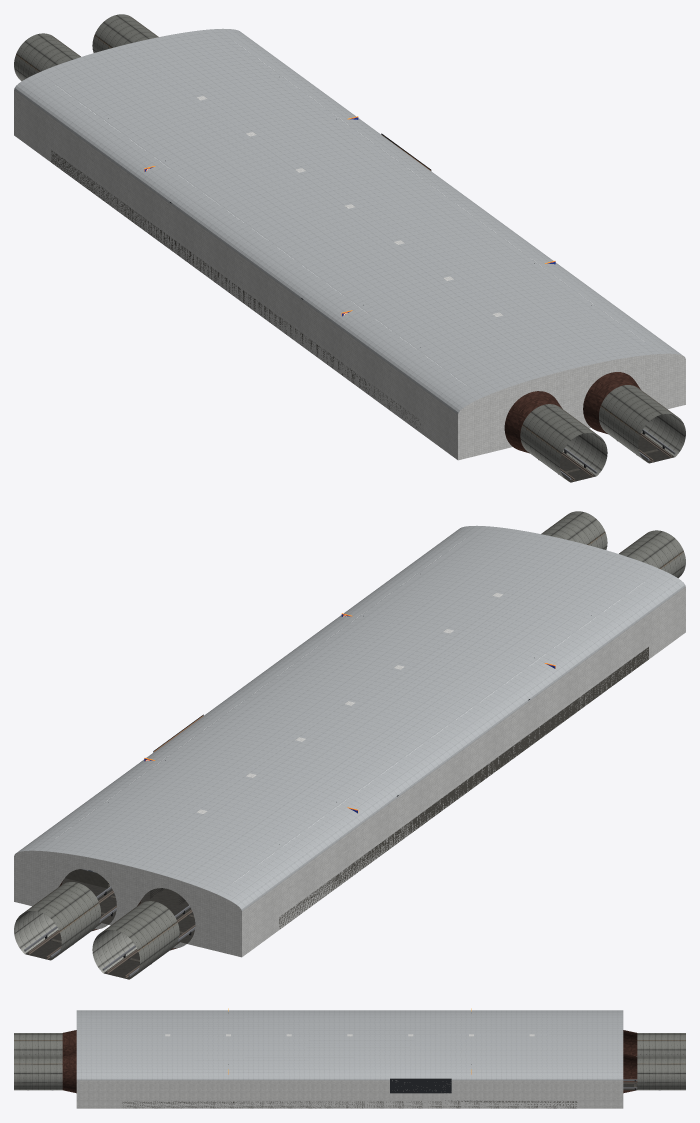
The model's file is station_govan.glb.
The picture shows the model from 3 angles, top to bottom: view 1: azimuth 30°, elevation 25°; view 2: azimuth 150°, elevation 25°; view 3: azimuth 270°, elevation 25°; orthographic projection. The views are drawn at different scales.
Parts seen in each view (by area): view 1: hall_shell, end_walls; view 2: hall_shell, end_walls; view 3: hall_shell, end_walls, hall_art.
Part boxes in pixels (bbox=[...]): hall_shell: bbox=[14, 28, 682, 481]; end_walls: bbox=[14, 14, 685, 482]; hall_shell: bbox=[17, 525, 685, 978]; end_walls: bbox=[14, 511, 685, 979]; hall_shell: bbox=[27, 1010, 660, 1108]; end_walls: bbox=[14, 1030, 685, 1093]; hall_art: bbox=[390, 1078, 451, 1093].
Bounding box in the file's own units: 16 × 4.85 × 66.4.
Materials: 36 (23 with a texture image).
